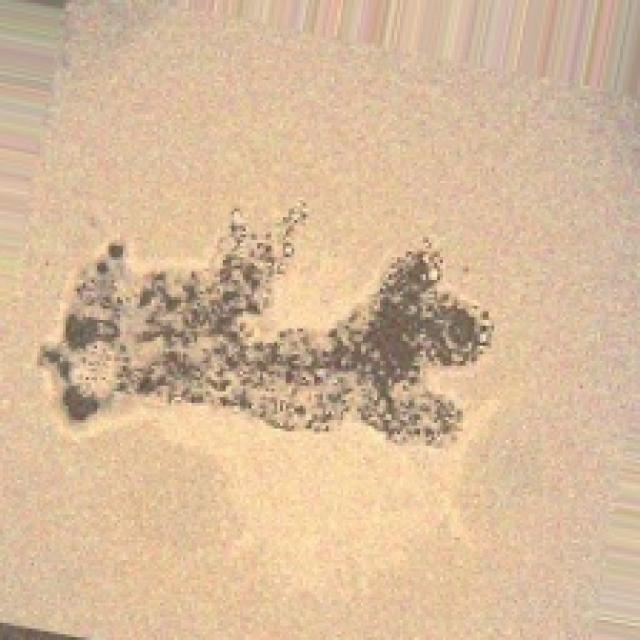Amoeba: (34, 194, 494, 449)
